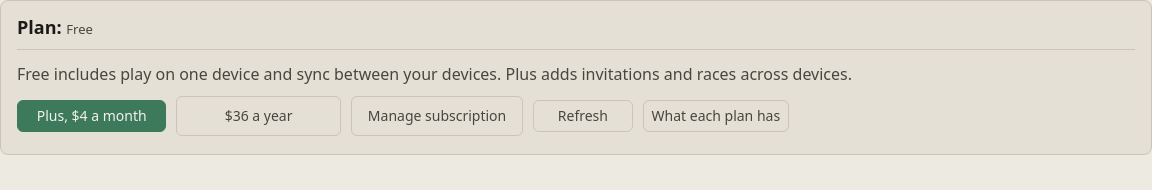
it: plan actions › reports rejected and unavailable mutations in one persistent status region
The width and height of the screenshot is (1152, 190).
Click the button "Plus, $4 a month": (92, 116) top-left (17, 100), bottom-right (166, 132)
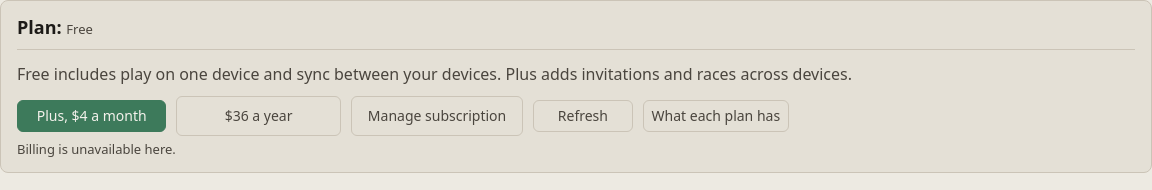
Now the message reads "Billing is unavailable here.", box top-left (17, 140), bottom-right (176, 158)
Click the button "$36 a year": (259, 116) top-left (176, 96), bottom-right (341, 136)
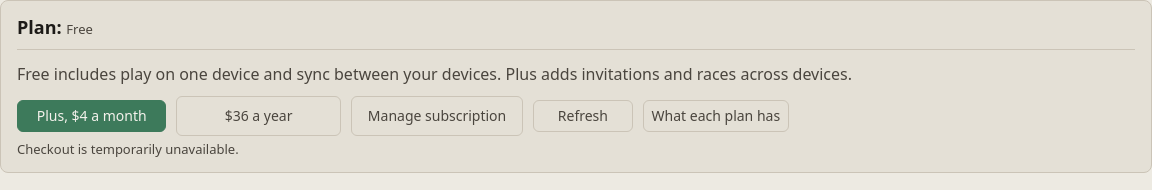
Now the number of messages is 1, box top-left (17, 140), bottom-right (239, 158)
Now the message reads "Checkout is temporarily unavailable.", box top-left (17, 140), bottom-right (239, 158)
